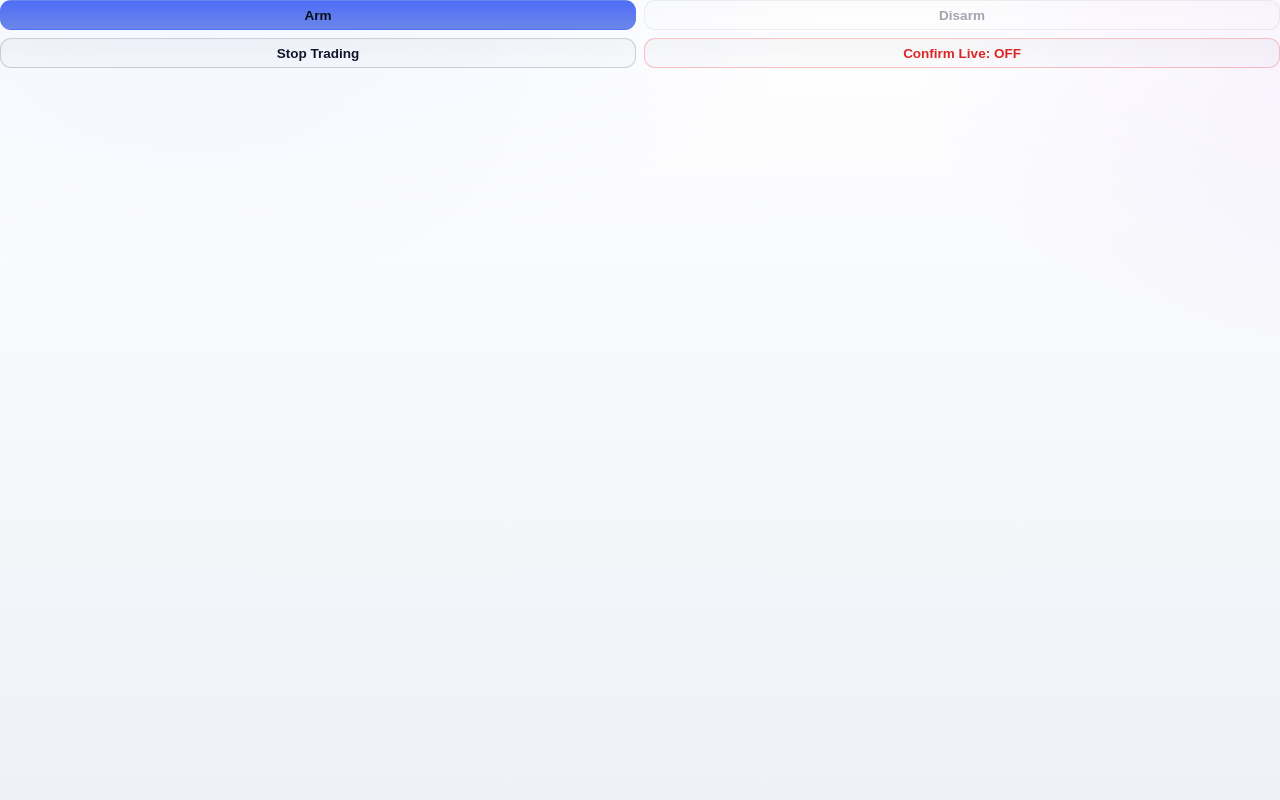
it: Confirm Live — type-LIVE gate › keeps the button disabled until the exact word LIVE is typed
Click the button "Confirm Live: OFF" at x=962, y=53, box [644,38,1279,68]
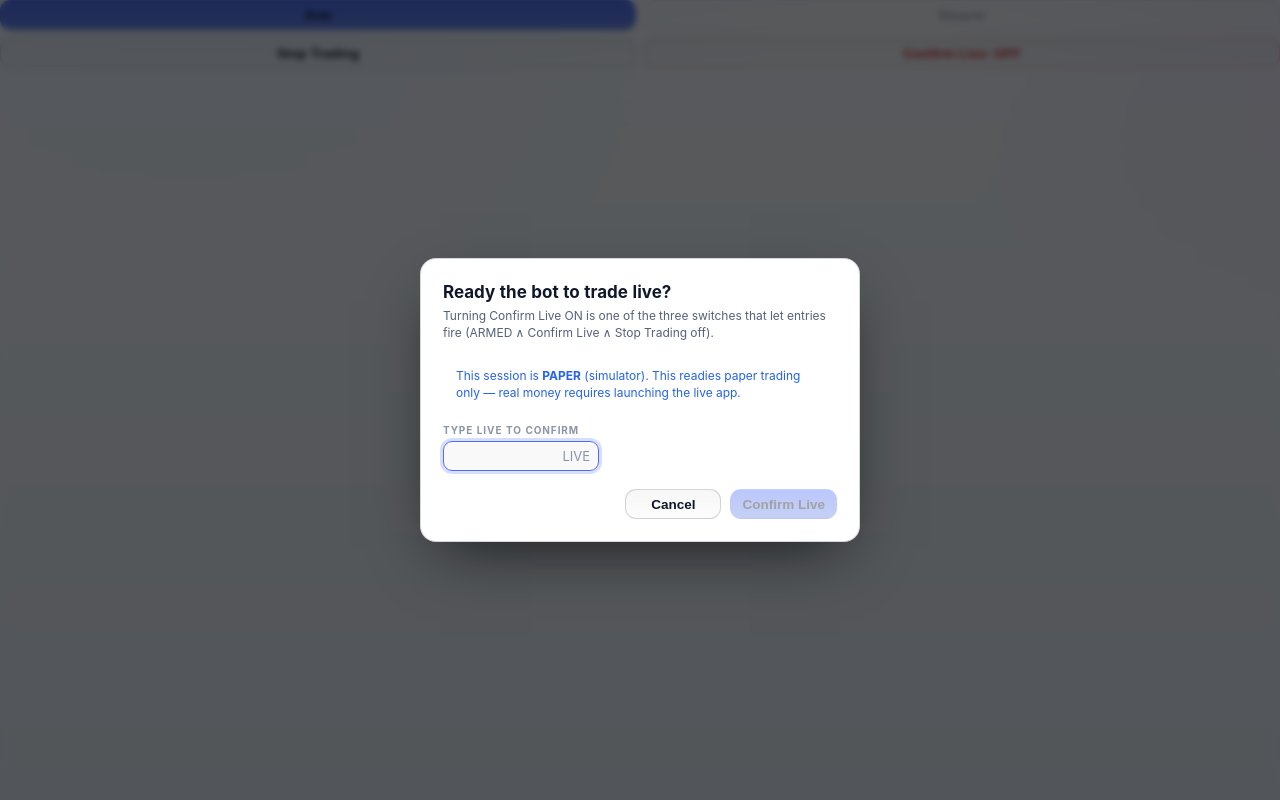
Check: the dialog is shown
Check: the button "Confirm Live" is disabled, box [730,490,837,520]
Type "live please" into the field labelled "Type LIVE to confirm" at x=521, y=456, box [443,442,599,472]
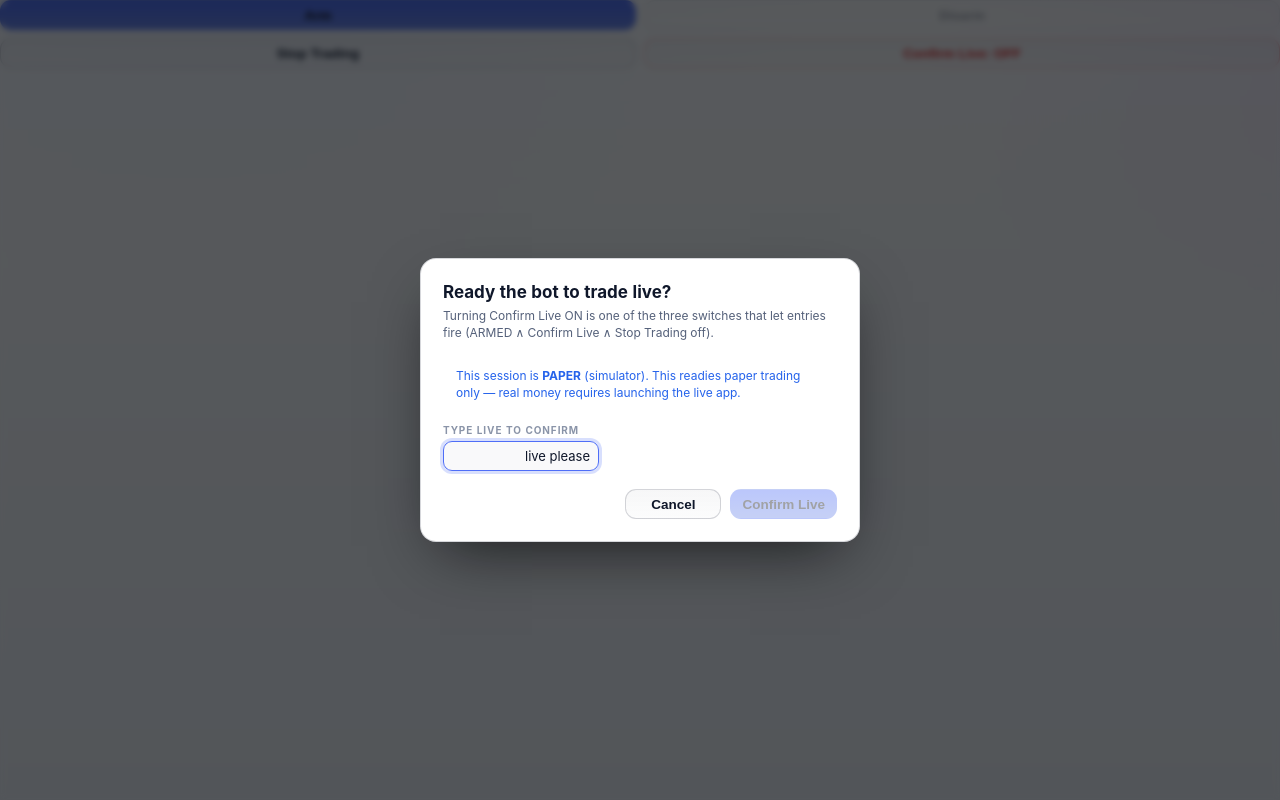
Check: the button "Confirm Live" is disabled, box [730,490,837,520]
Replace the text in the field labelled "Type LIVE to confirm" with "LIVE" at x=521, y=456, box [443,442,599,472]
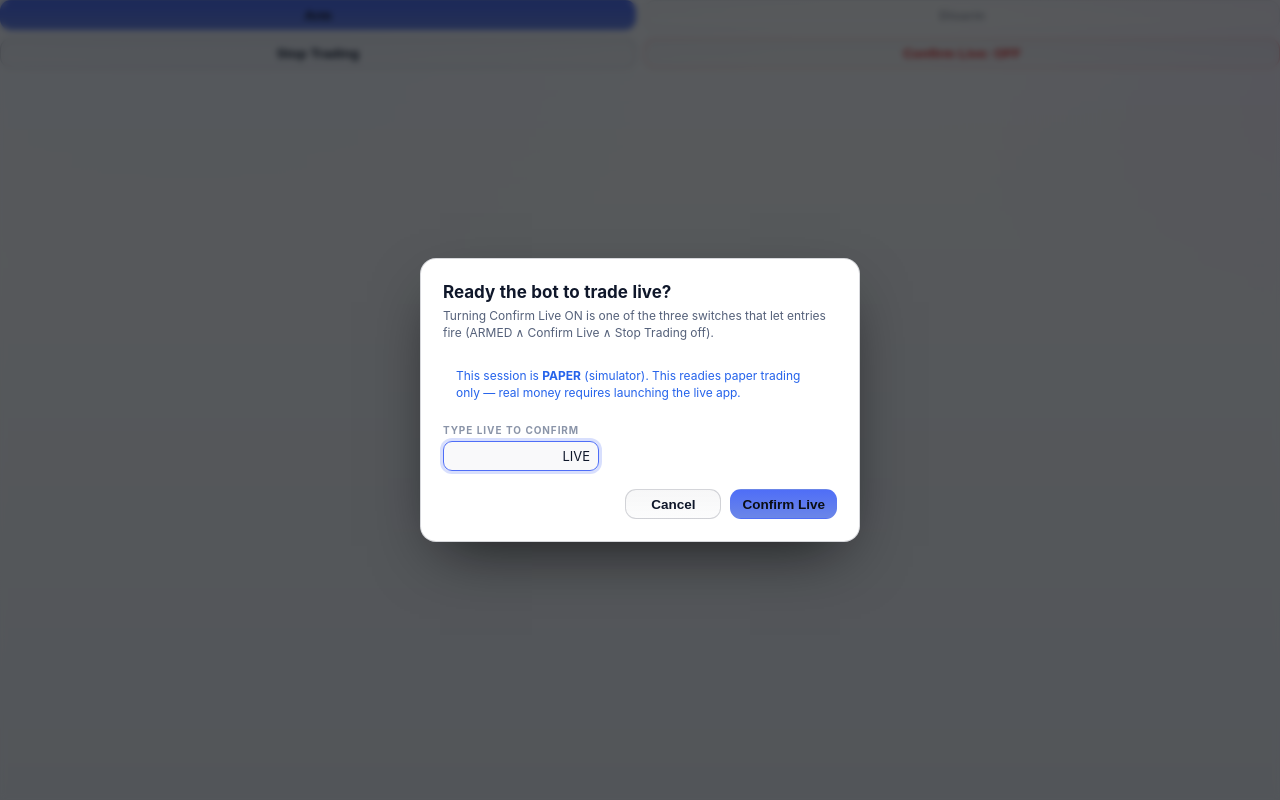
Check: the button "Confirm Live" is enabled, box [730,490,837,520]
